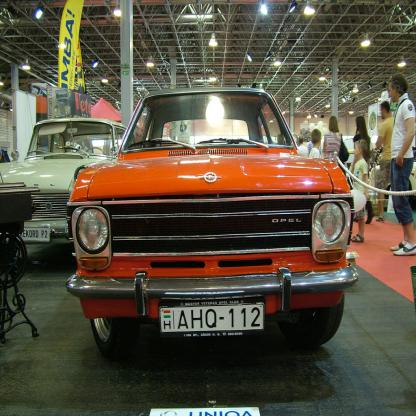Car: (66, 85, 360, 361), (0, 115, 135, 266)
